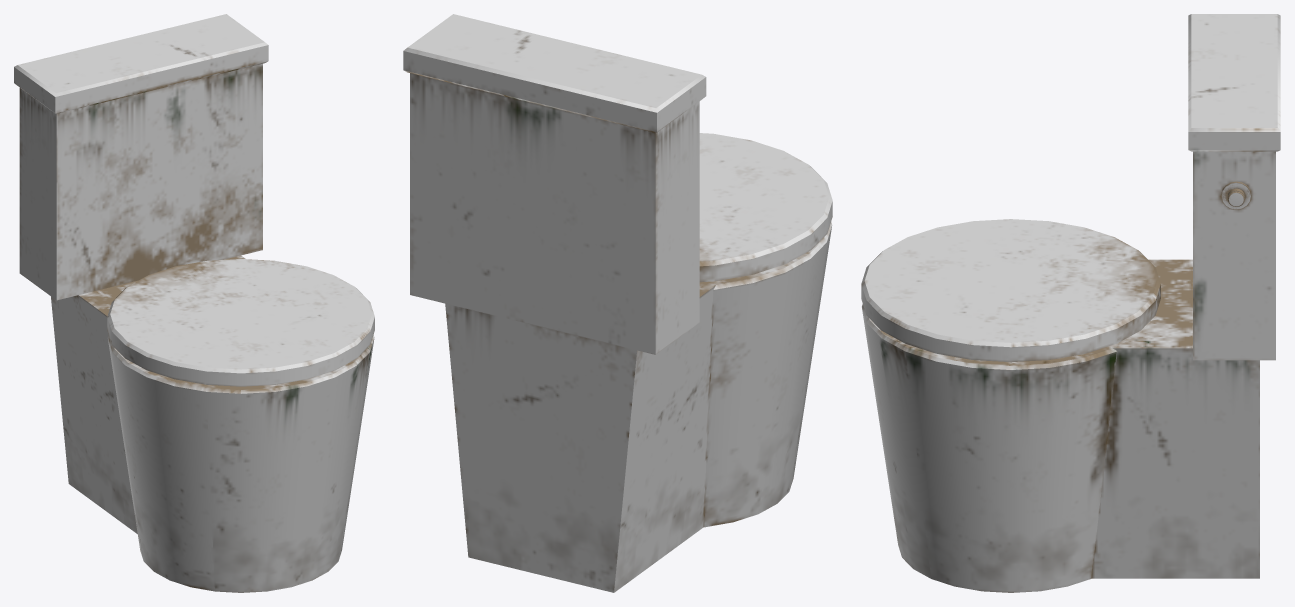
The model's file is toilet.fbx.
The picture shows the model from 3 angles, left to right: view 1: azimuth 30°, elevation 25°; view 2: azimuth 150°, elevation 25°; view 3: azimuth 270°, elevation 25°; orthographic projection. The views are drawn at different scales.
Parts seen in each view (by area): view 1: Cylinder; view 2: Cylinder; view 3: Cylinder.
Boxes of the visible parts, x1,y1,x2,y2 form: Cylinder: (14,14,374,592); Cylinder: (403,14,832,592); Cylinder: (861,14,1280,592).
Size of the model in its own units: 57.71 by 101 by 80.78.
